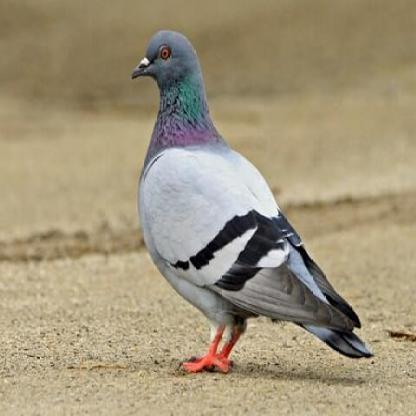Flying Rat: (123, 29, 370, 381)
